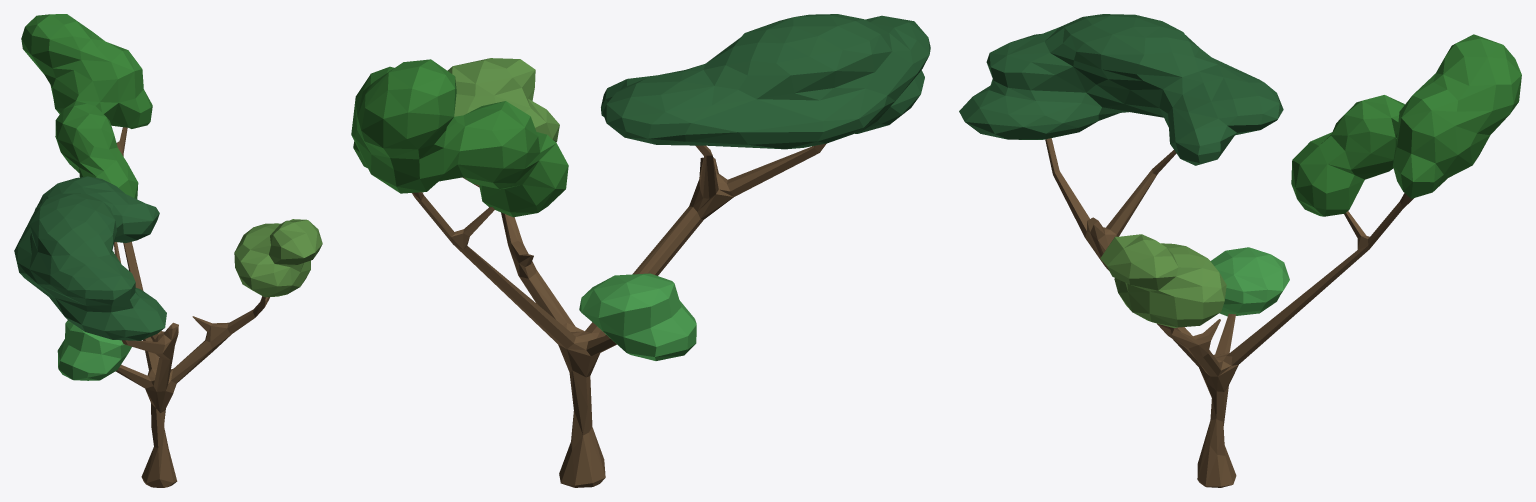
File: tree2.fbx
3 views of the same model, side by side, from view 1: azimuth 30°, elevation 25°; view 2: azimuth 150°, elevation 25°; view 3: azimuth 270°, elevation 25° (orthographic). The views are drawn at different scales.
Visible parts, largest first — view 1: tree2_leaves, tree2_trunk; view 2: tree2_leaves, tree2_trunk; view 3: tree2_leaves, tree2_trunk.
Part boxes in pixels (box(x1,y1,x2,y2)): tree2_leaves: box(14, 14, 322, 380); tree2_trunk: box(114, 127, 269, 487); tree2_leaves: box(351, 14, 930, 360); tree2_trunk: box(412, 143, 826, 487); tree2_leaves: box(959, 14, 1521, 328); tree2_trunk: box(1045, 138, 1413, 487).
Bounding box in the file's own units: 4.39 × 5.15 × 5.91.
